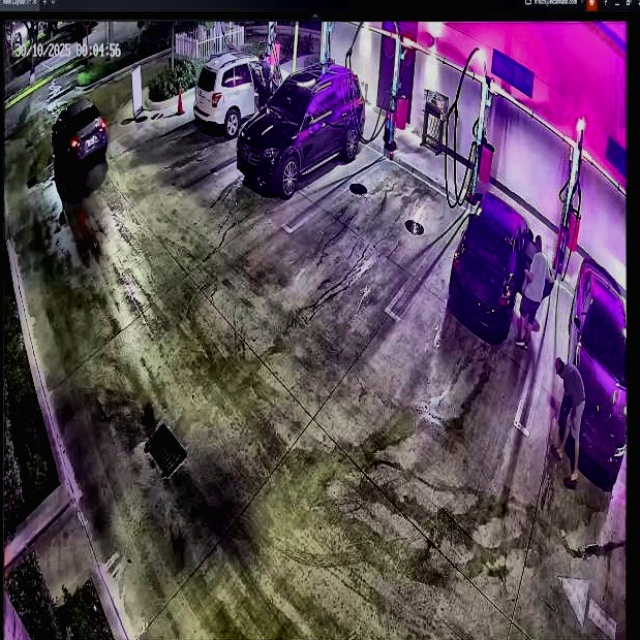Car: (239, 63, 364, 195), (447, 194, 552, 341)
